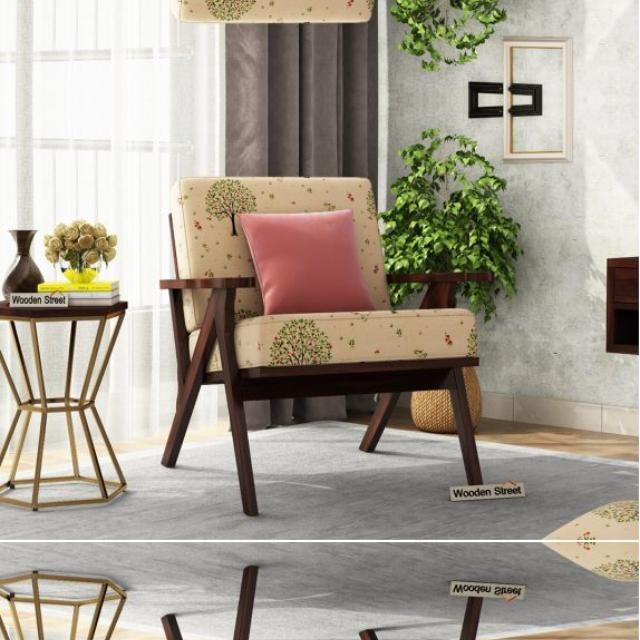obstacle: (154, 172, 508, 480), (153, 600, 508, 640), (153, 0, 508, 26)
